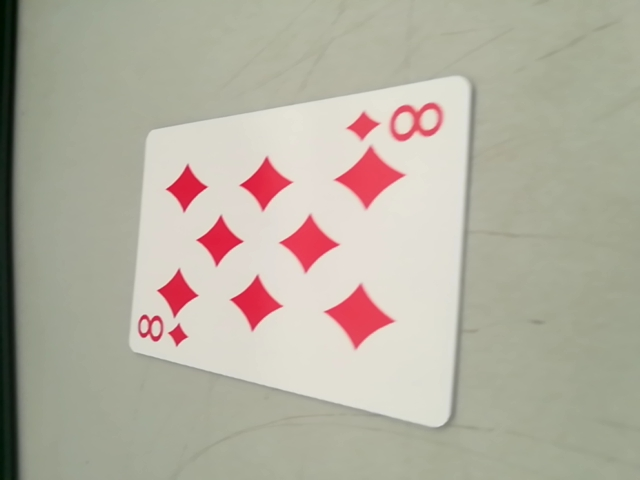fk 8: (349, 94, 452, 147), (131, 310, 191, 353)
